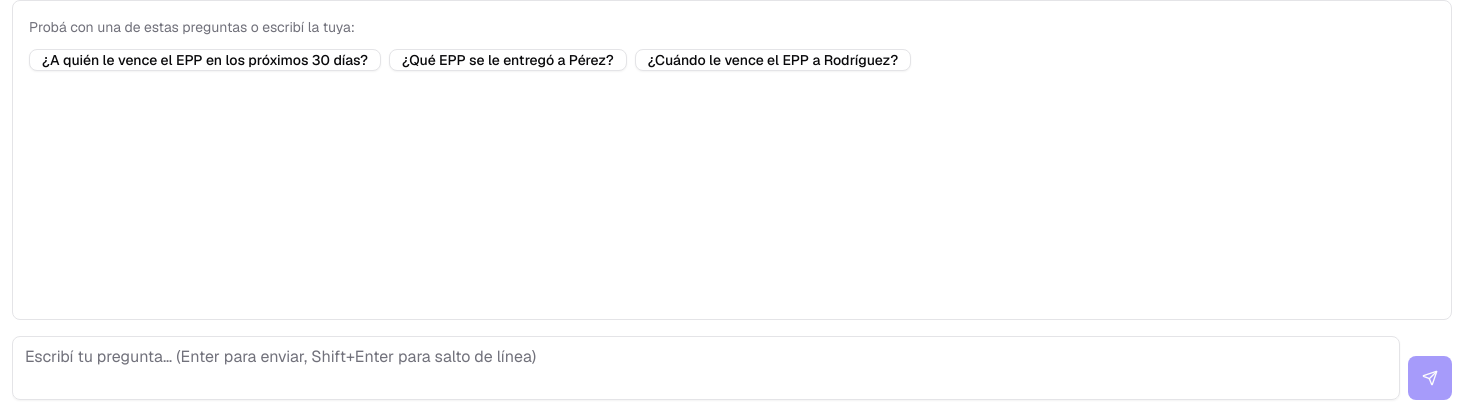
Test case: AsistenteChat (streaming) › submit por sugerencia: POST /api/asistente + render markdown del answer
The width and height of the screenshot is (1464, 417).
Click the button "¿Qué EPP se le entregó a Pérez?". click: coordinates (508, 60)
box: [389,49,627,71]
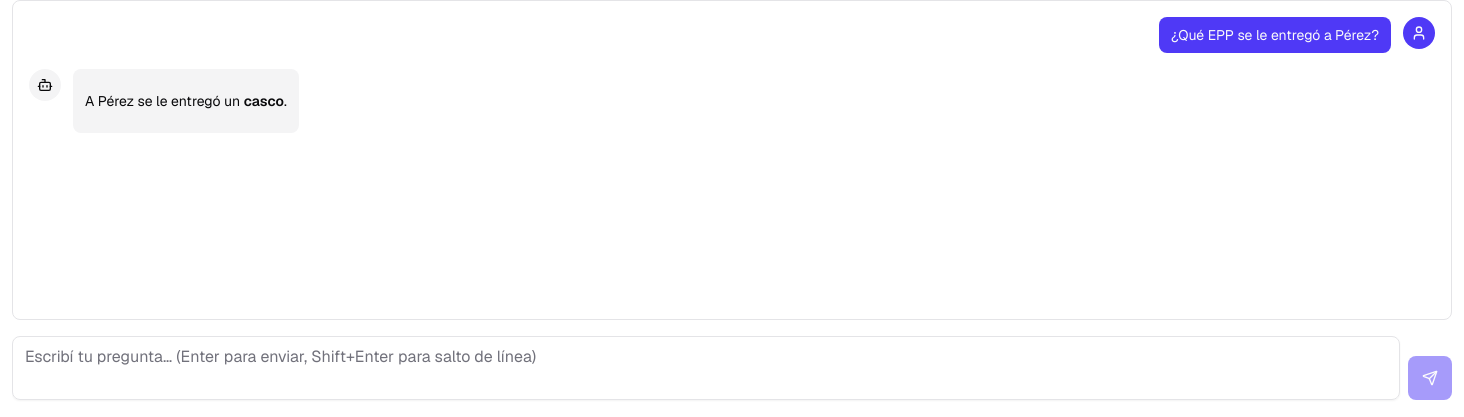
Now the text "casco" is shown, box [244,92,284,110]
